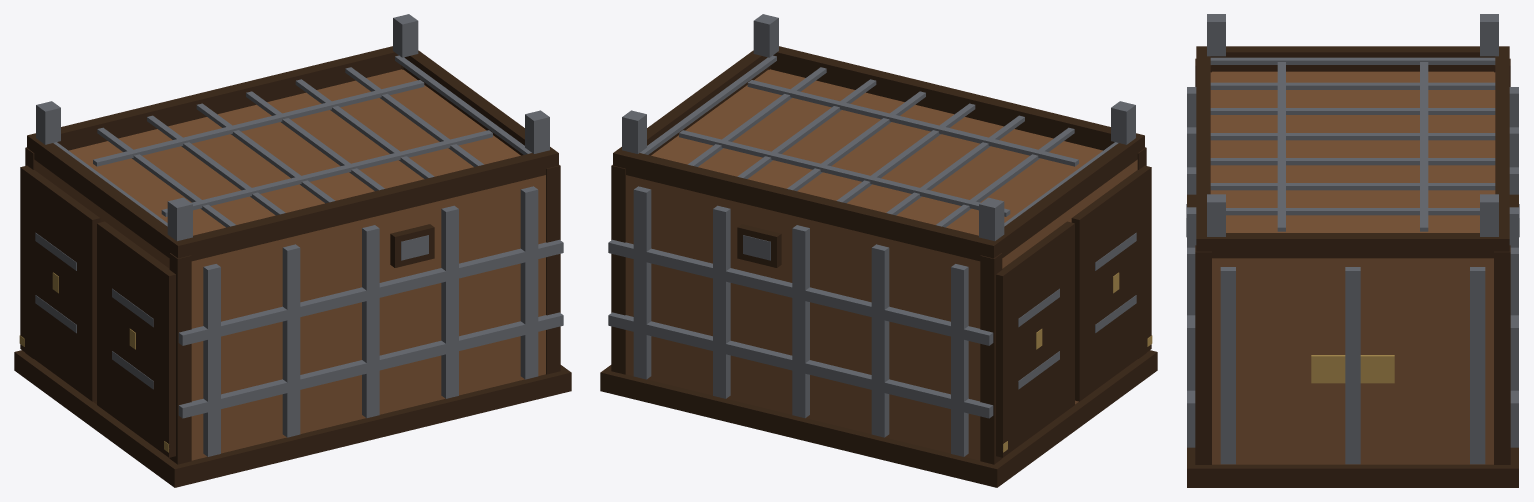
Rendered from SN_Cargo_Large_Hold.glb.
3 renders of one model, left to right at view 1: azimuth 30°, elevation 25°; view 2: azimuth 150°, elevation 25°; view 3: azimuth 270°, elevation 25°, orthographic. The views are drawn at different scales.
Parts seen in each view (by area): view 1: SN_Cargo_Large_Hold; view 2: SN_Cargo_Large_Hold; view 3: SN_Cargo_Large_Hold.
Boxes of the visible parts, x1,y1,x2,y2 form: SN_Cargo_Large_Hold: [14, 14, 571, 487]; SN_Cargo_Large_Hold: [600, 14, 1157, 487]; SN_Cargo_Large_Hold: [1186, 14, 1519, 487].
Bounding box in the file's own units: 4.01 × 2.6 × 2.81.
